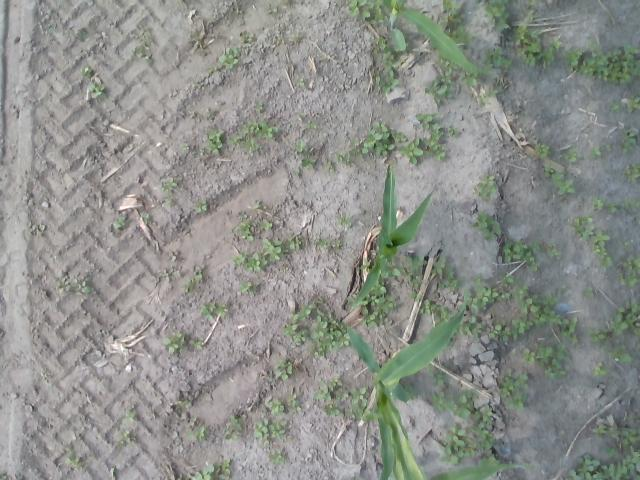Maize: (346, 278, 467, 480), (347, 164, 434, 312), (383, 0, 489, 74), (428, 464, 530, 480)
Weeds: (461, 284, 578, 346), (284, 300, 350, 356), (336, 121, 406, 165), (567, 42, 640, 84), (564, 446, 640, 480), (516, 23, 563, 66), (416, 113, 456, 161), (436, 422, 476, 466), (521, 344, 572, 378), (500, 241, 540, 271), (496, 367, 528, 400), (346, 0, 388, 24), (424, 77, 454, 107), (483, 0, 512, 31), (473, 212, 503, 240), (619, 298, 640, 338), (592, 227, 612, 266), (382, 50, 399, 94), (57, 271, 91, 293), (484, 46, 512, 72), (314, 374, 342, 400), (399, 138, 424, 166), (472, 172, 496, 200), (455, 388, 479, 416), (243, 120, 279, 138), (473, 423, 496, 451), (612, 424, 640, 446), (347, 403, 378, 422), (128, 25, 151, 50), (439, 0, 460, 26), (150, 266, 180, 284), (262, 236, 284, 260), (604, 314, 628, 336), (452, 25, 475, 47), (220, 46, 241, 70), (163, 331, 184, 355), (574, 216, 594, 241), (553, 173, 575, 195), (252, 417, 268, 447), (428, 366, 452, 386), (432, 392, 456, 412), (622, 127, 640, 153), (436, 56, 458, 77), (343, 386, 368, 404), (186, 464, 214, 480), (245, 253, 268, 272), (273, 359, 293, 380), (361, 308, 383, 327), (408, 274, 422, 303), (182, 271, 202, 291), (233, 222, 254, 241), (439, 268, 457, 290), (610, 344, 632, 362), (405, 256, 425, 275), (478, 86, 499, 104), (238, 279, 259, 297), (621, 255, 640, 274), (88, 82, 108, 100), (475, 404, 493, 424), (157, 177, 178, 194), (376, 295, 394, 313), (270, 419, 286, 439), (431, 305, 453, 319), (238, 138, 260, 152), (200, 300, 214, 322), (267, 398, 284, 416), (534, 139, 550, 157), (564, 148, 582, 164), (217, 456, 230, 478), (225, 415, 247, 428), (625, 162, 640, 180), (625, 95, 640, 113), (432, 256, 446, 275), (460, 70, 479, 84), (371, 282, 387, 298), (592, 422, 606, 440), (372, 37, 388, 52), (594, 362, 610, 377), (206, 140, 223, 154), (268, 449, 286, 462), (209, 127, 225, 141), (508, 394, 524, 408), (620, 274, 638, 286), (622, 197, 640, 209), (381, 266, 399, 278), (499, 272, 514, 286), (194, 425, 206, 442), (324, 404, 341, 416), (588, 328, 605, 340), (480, 457, 500, 467), (66, 457, 84, 468), (590, 198, 604, 212), (258, 218, 272, 232), (117, 430, 131, 444), (289, 236, 302, 250), (361, 296, 378, 306), (547, 245, 560, 258), (195, 200, 208, 213), (296, 138, 308, 152), (542, 166, 556, 178), (240, 30, 254, 42), (122, 410, 136, 422), (604, 443, 616, 457), (336, 214, 351, 225), (420, 300, 430, 316), (374, 70, 381, 92), (253, 99, 264, 113), (583, 284, 594, 298), (607, 202, 619, 214), (472, 274, 484, 286), (80, 66, 92, 78), (214, 304, 227, 315), (286, 393, 297, 406), (312, 238, 326, 248), (229, 133, 241, 144), (325, 158, 335, 171), (591, 147, 601, 160), (190, 340, 203, 350), (302, 158, 316, 167), (233, 253, 244, 264), (610, 103, 622, 113), (44, 24, 56, 34), (112, 218, 124, 228), (253, 200, 266, 209), (226, 432, 240, 440), (306, 120, 316, 130), (294, 77, 305, 86), (620, 237, 628, 249), (523, 12, 535, 20), (182, 428, 194, 436), (140, 212, 150, 221), (238, 211, 248, 220), (274, 38, 285, 46), (331, 240, 342, 248), (176, 400, 188, 407), (65, 446, 74, 455), (168, 252, 176, 261), (208, 66, 218, 73), (292, 34, 300, 42), (298, 112, 306, 120), (288, 406, 296, 414), (145, 56, 154, 63), (188, 111, 195, 118), (197, 82, 204, 89), (136, 51, 142, 58), (606, 145, 612, 152), (49, 12, 56, 18), (235, 8, 242, 14), (207, 108, 211, 118), (184, 143, 189, 150), (166, 199, 173, 204), (530, 0, 536, 5), (287, 235, 292, 241), (296, 407, 302, 411), (201, 150, 205, 154)
